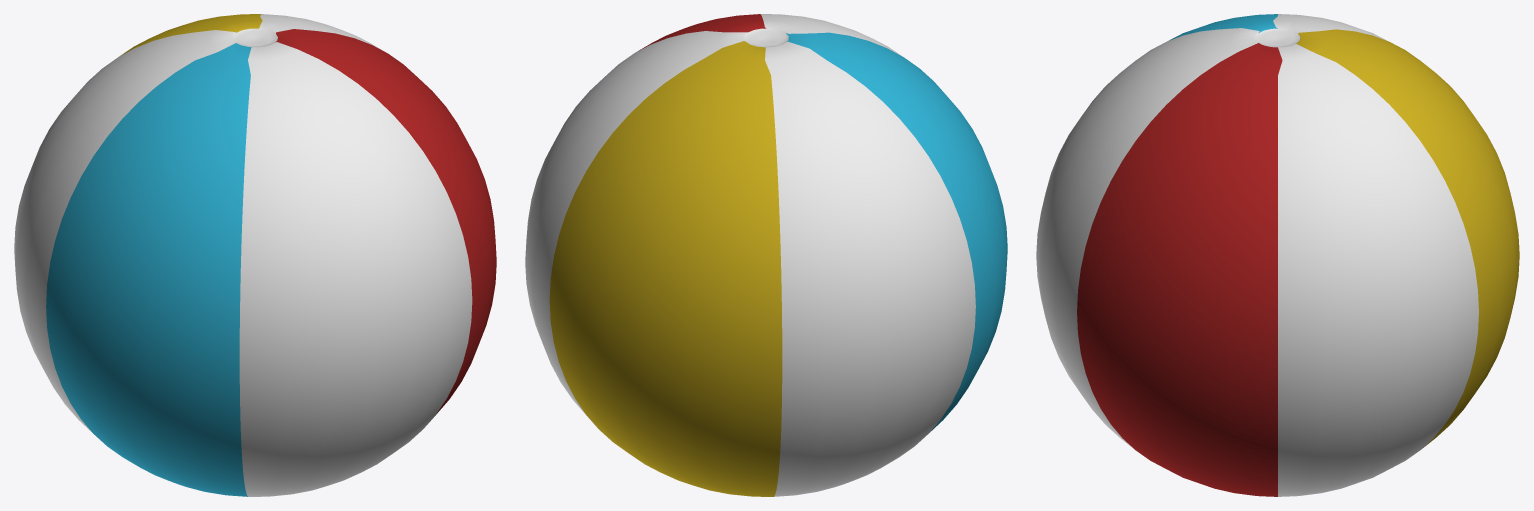
The model's file is balll.fbx.
3 views of the same model, side by side, from view 1: azimuth 30°, elevation 25°; view 2: azimuth 150°, elevation 25°; view 3: azimuth 270°, elevation 25° (orthographic).
Visible parts, largest first — view 1: Sphere; view 2: Sphere; view 3: Sphere.
Part boxes in pixels (x1,y1,x2,y2): Sphere: (14, 14, 496, 496); Sphere: (525, 14, 1007, 496); Sphere: (1036, 14, 1519, 496).
Size of the model in its own units: 37.49 by 37.31 by 37.49.
